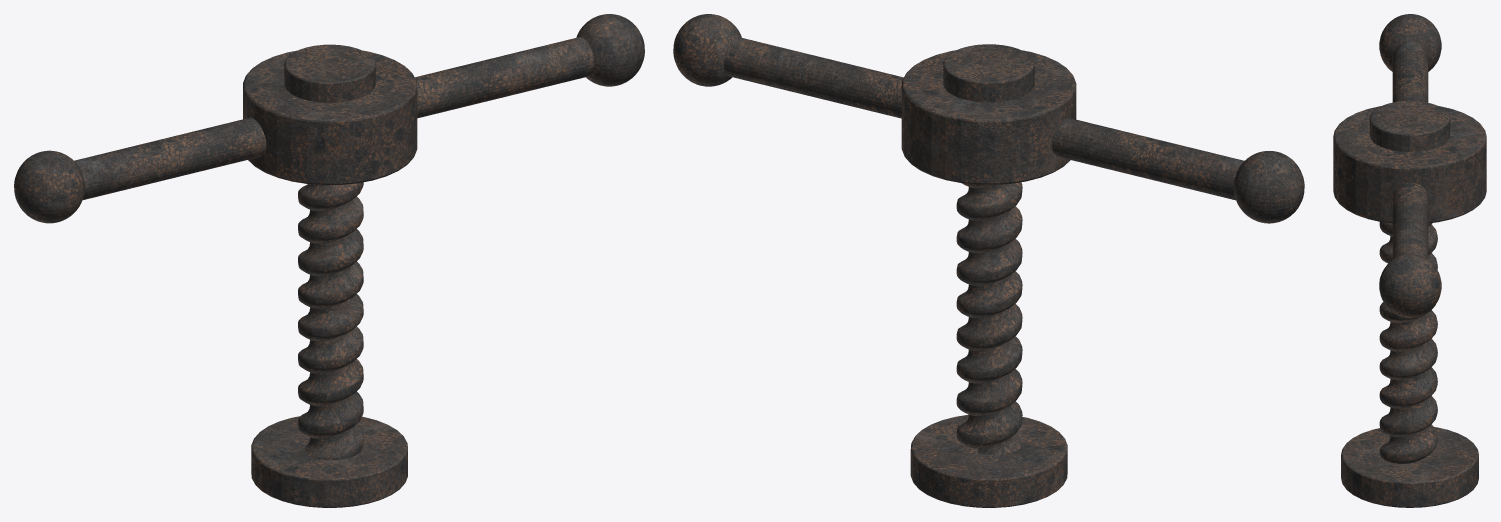
The model's file is ScrewPressScrew.fbx.
3 renders of one model, left to right at view 1: azimuth 30°, elevation 25°; view 2: azimuth 150°, elevation 25°; view 3: azimuth 270°, elevation 25°, orthographic. The views are drawn at different scales.
Parts seen in each view (by area): view 1: Screw; view 2: Screw; view 3: Screw.
Part boxes in pixels (left/top/right/bottom): Screw: left=14, top=14, right=644, bottom=507; Screw: left=673, top=14, right=1304, bottom=507; Screw: left=1333, top=14, right=1486, bottom=507.
Bounding box in the file's own units: 50.03 × 31.72 × 12.19.
